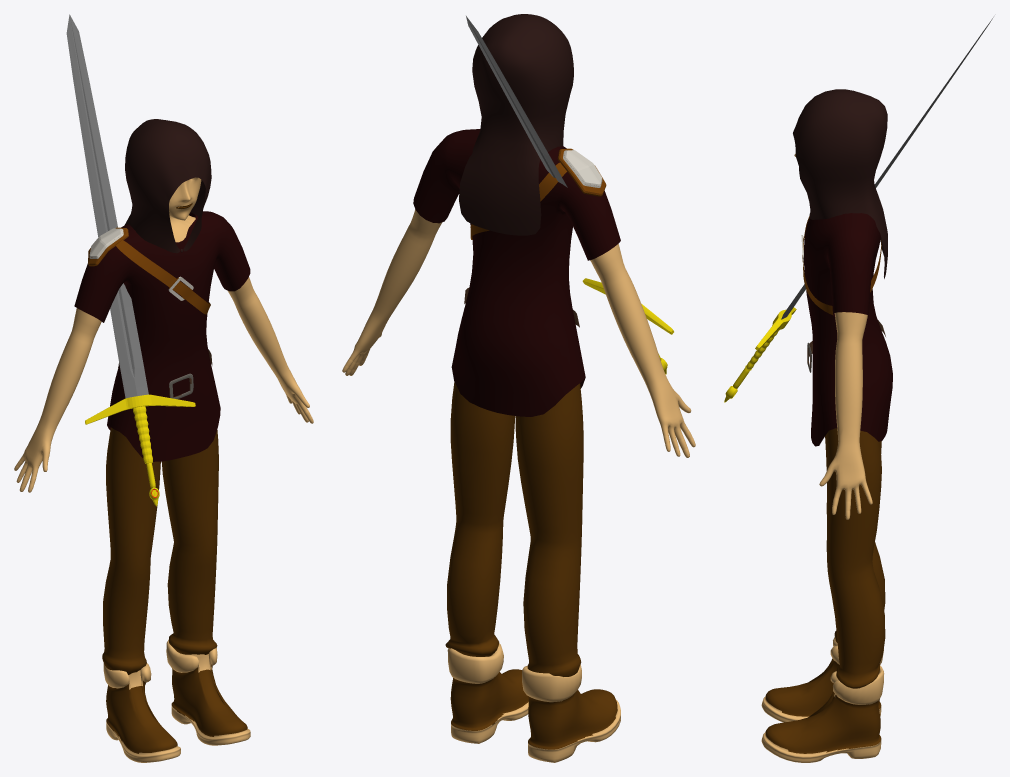
Rendered from Personnage_claymore.fbx.
The picture shows the model from 3 angles, left to right: view 1: azimuth 30°, elevation 25°; view 2: azimuth 150°, elevation 25°; view 3: azimuth 270°, elevation 25°; orthographic projection. The views are drawn at different scales.
Parts seen in each view (by area): view 1: tunique, pantalon, coprs, blade, capuche, épaulière; view 2: pantalon, tunique, coprs, capuche, blade, épaulière; view 3: coprs, tunique, pantalon, capuche, blade, épaulière.
Part boxes in pixels (x1=…): tunique: x1=74, y1=211, x2=250, y2=461; pantalon: x1=102, y1=427, x2=218, y2=674; coprs: x1=14, y1=177, x2=313, y2=762; blade: x1=66, y1=14, x2=195, y2=506; capuche: x1=124, y1=119, x2=211, y2=253; épaulière: x1=88, y1=227, x2=210, y2=314; pantalon: x1=445, y1=382, x2=583, y2=676; tunique: x1=413, y1=129, x2=620, y2=416; coprs: x1=342, y1=209, x2=695, y2=762; capuche: x1=459, y1=14, x2=573, y2=235; blade: x1=466, y1=16, x2=673, y2=374; épaulière: x1=470, y1=148, x2=606, y2=239; coprs: x1=761, y1=154, x2=884, y2=762; tunique: x1=804, y1=213, x2=892, y2=446; pantalon: x1=825, y1=428, x2=885, y2=688; capuche: x1=793, y1=89, x2=887, y2=278; blade: x1=724, y1=17, x2=993, y2=402; épaulière: x1=801, y1=216, x2=881, y2=314.
Bounding box in the file's own units: 461 × 1025 × 356.
